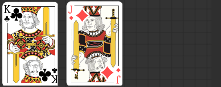JD: (67, 4, 74, 21)
